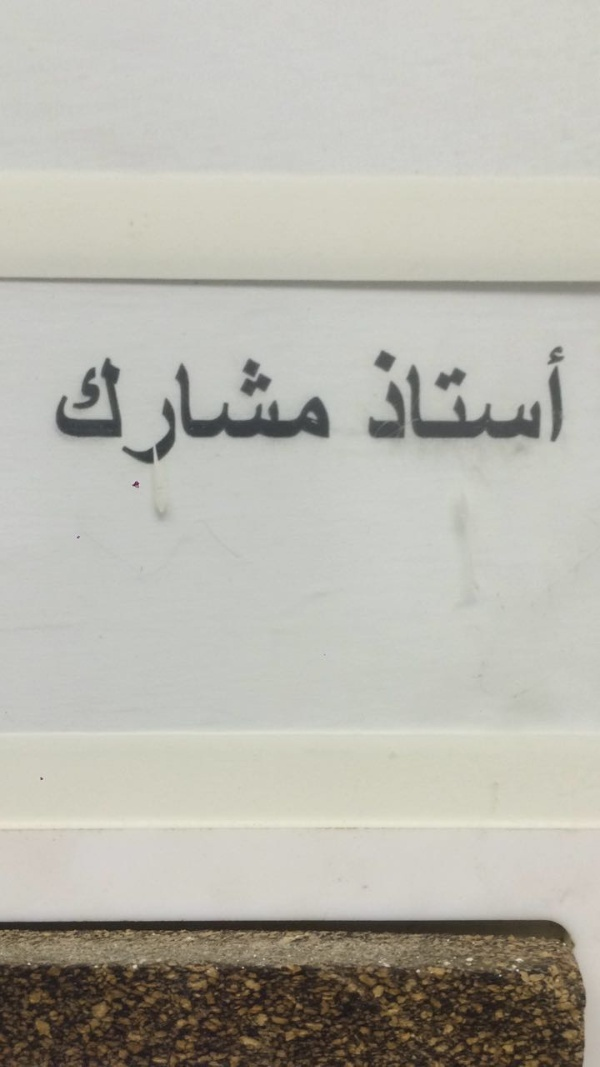text: (65, 354, 80, 464), (81, 354, 96, 464), (97, 354, 112, 464), (113, 354, 128, 464), (129, 354, 144, 464), (145, 354, 160, 464), (161, 354, 176, 464), (177, 354, 192, 464), (193, 354, 208, 464), (209, 354, 224, 464), (225, 354, 240, 464), (241, 354, 256, 464), (257, 354, 272, 464), (273, 354, 288, 464), (289, 354, 304, 464), (305, 354, 320, 464), (385, 340, 400, 446), (401, 340, 416, 446), (417, 340, 432, 446), (433, 340, 448, 446), (449, 340, 464, 446), (465, 340, 480, 446), (481, 340, 496, 446), (497, 340, 512, 446), (513, 340, 528, 446), (529, 340, 544, 446), (545, 340, 560, 446), (321, 354, 333, 464), (374, 340, 384, 446), (55, 354, 64, 464), (561, 340, 568, 446)
